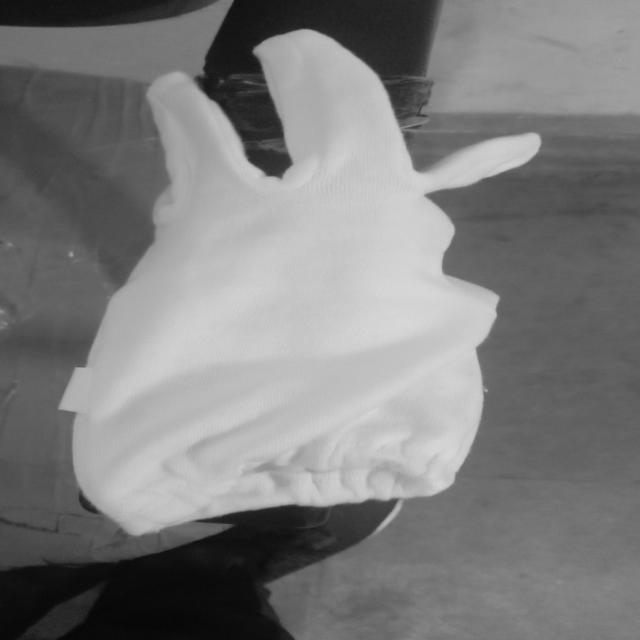Gloves: (51, 25, 542, 538)
